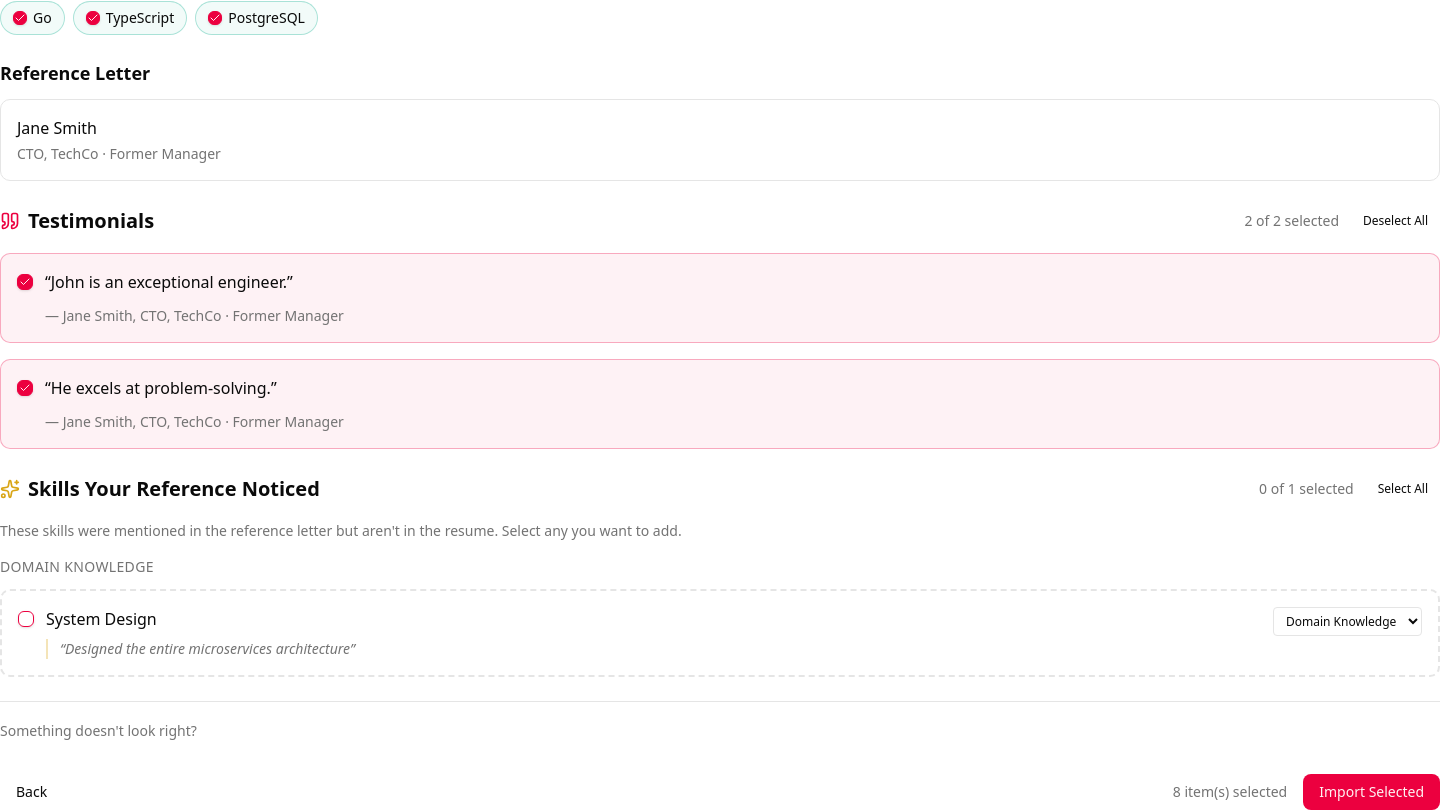
Test: ExtractionReview › Import action › shows error message on import failure
(page scrolled)
Click the button "Import Selected".
click(1372, 792)  # box [1303, 774, 1439, 809]
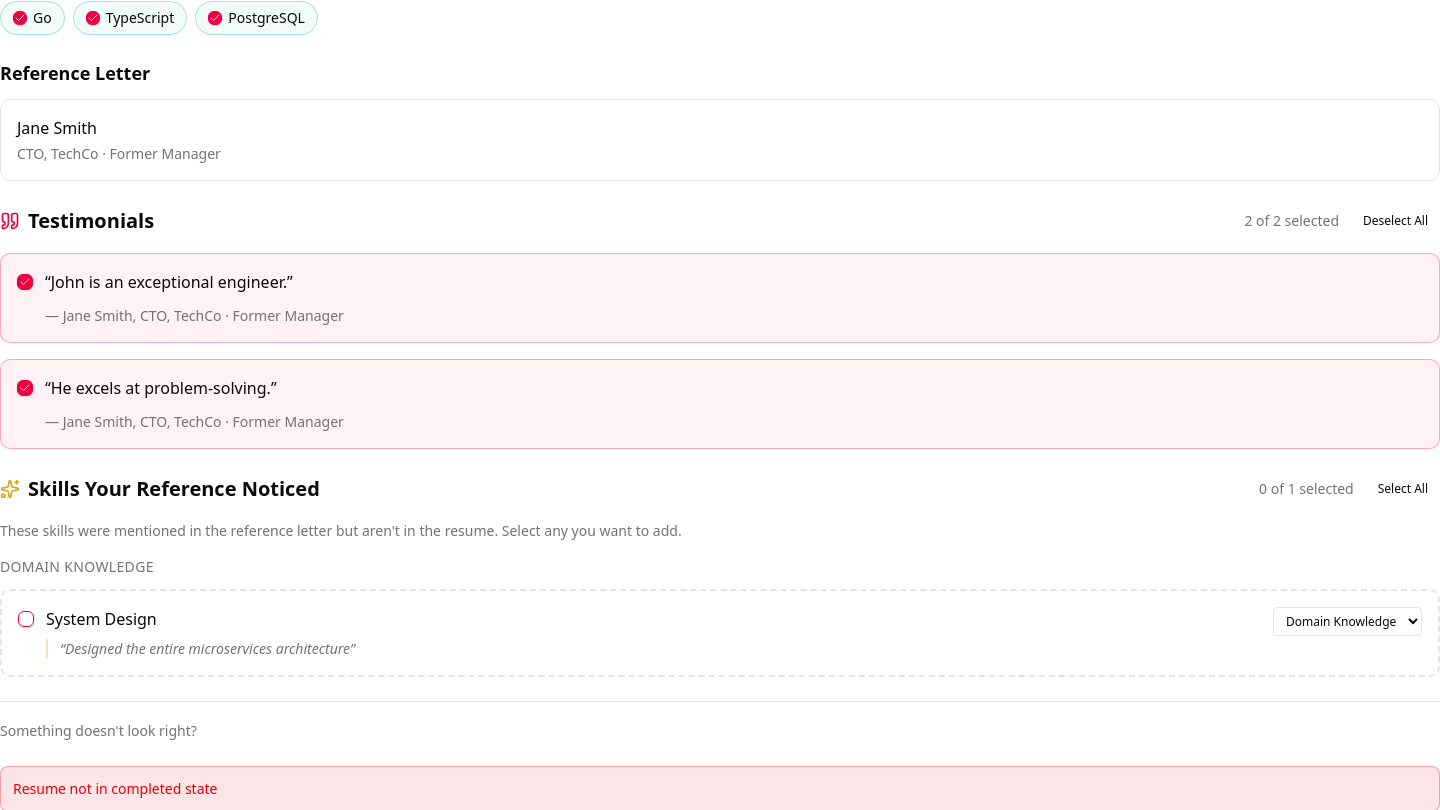
Check: the text "Resume not in completed state" is shown, box [13, 779, 218, 798]
